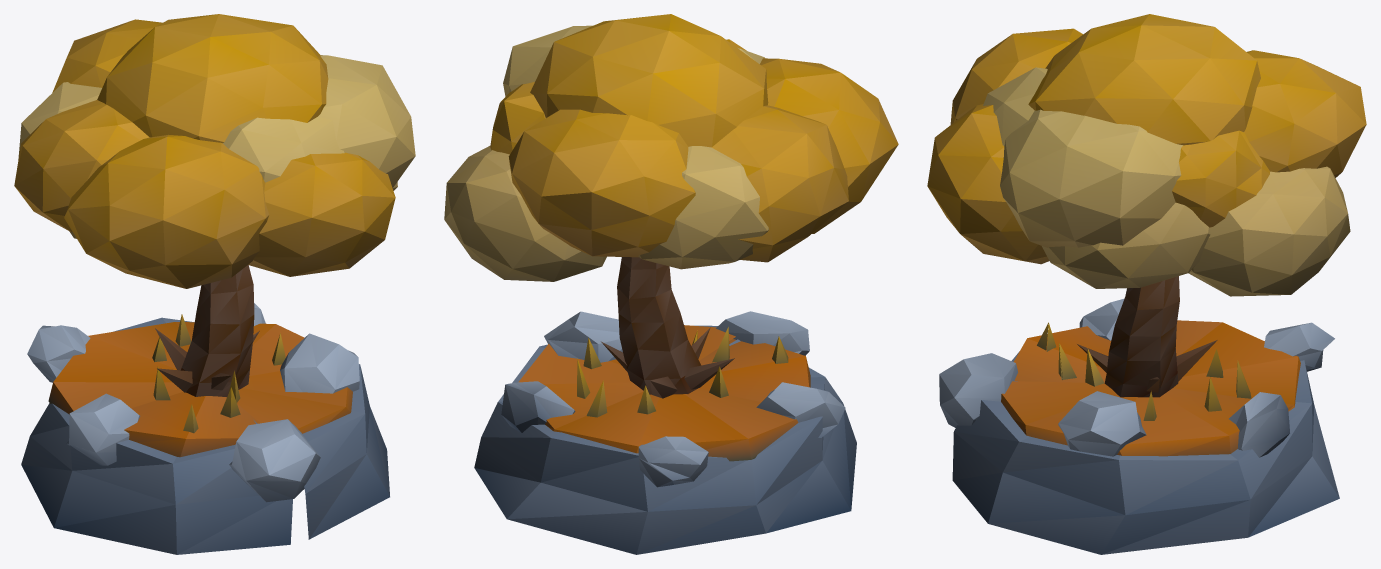
The model's file is pohon_oak_autumn_330459.glb.
3 views of the same model, side by side, from view 1: azimuth 30°, elevation 25°; view 2: azimuth 150°, elevation 25°; view 3: azimuth 270°, elevation 25° (orthographic). The views are drawn at different scales.
Parts seen in each view (by area): view 1: Dedaunan_Kanopi, Pulau_Batu_Tepi_Sungai, Batang_Dan_Akar; view 2: Dedaunan_Kanopi, Pulau_Batu_Tepi_Sungai, Batang_Dan_Akar; view 3: Dedaunan_Kanopi, Pulau_Batu_Tepi_Sungai, Batang_Dan_Akar.
Boxes of the visible parts, x1,y1,x2,y2 form: Dedaunan_Kanopi: (14, 14, 415, 288); Pulau_Batu_Tepi_Sungai: (21, 303, 389, 554); Batang_Dan_Akar: (155, 265, 259, 397); Dedaunan_Kanopi: (444, 14, 898, 281); Pulau_Batu_Tepi_Sungai: (474, 311, 856, 554); Batang_Dan_Akar: (601, 257, 734, 398); Dedaunan_Kanopi: (927, 14, 1366, 296); Pulau_Batu_Tepi_Sungai: (939, 299, 1339, 554); Batang_Dan_Akar: (1077, 276, 1217, 397).
Bounding box in the file's own units: 5.56 × 6.75 × 5.9.
